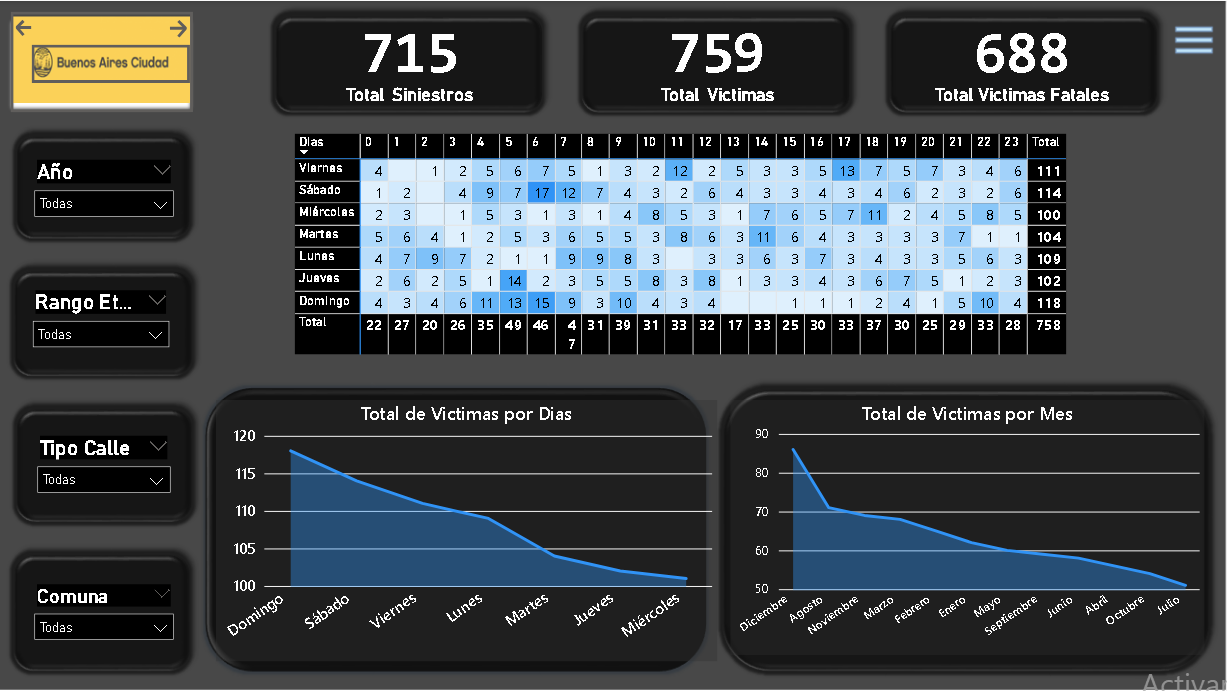

The page's visual inventory and layout, read from the dashboard file:
{"tool":"powerbi","page":{"name":"Temporal","canvas":[1280,720],"ordinal":5},"visuals":[{"type":"slicer","fields":{"Values":["Siniestros Viales.Año_Hechos"]},"box":[15,150,193.3,108.3],"z":0},{"type":"pivotTable","fields":{"Columns":["Siniestros Viales.Hora_Hechos"],"Values":["Medidas.Total_Victimas"],"Rows":["Siniestros Viales.Dias_Nombres_Hechos"]},"box":[305,133.3,916.7,250],"z":1000},{"type":"card","fields":{"Values":["Medidas.Total_Siniestros"]},"box":[291.4,11.4,274.3,104.3],"z":2000},{"type":"slicer","fields":{"Values":["Siniestros Viales.Edad"]},"box":[13.3,288.3,190,111.7],"z":3000},{"type":"areaChart","title":"Total de Victimas por Mes","fields":{"Category":["Siniestros Viales.Meses_Nombres_Hechos"],"Y":["Medidas.Total_Victimas"]},"box":[763.3,415,493.3,265],"z":4000},{"type":"areaChart","title":"Total de Victimas por Dias","fields":{"Y":["Medidas.Total_Victimas"],"Category":["Siniestros Viales.Dias_Nombres_Hechos"]},"box":[228.3,415,521.7,271.7],"z":5000},{"type":"card","fields":{"Values":["Medidas.Total_Victimas"]},"box":[612.9,11.4,274.3,104.3],"z":6000},{"type":"card","fields":{"Values":["Medidas.Total_Victimas_Fatales"]},"box":[930,11.4,274.3,104.3],"z":7000},{"type":"slicer","fields":{"Values":["Siniestros Viales.Participantes"]},"box":[18.3,588.3,185,111.7],"z":8000},{"type":"slicer","fields":{"Values":["Siniestros Viales.Victima"]},"box":[18.3,433.3,186.7,115],"z":9000}]}

Visuals, with their boxes in screenshot pixels (x1, y1, x2, y2), scaled from the page's 1280x720 canvas onto the 1227x691 screenshot:
slicer - Siniestros Viales.Año_Hechos: pyautogui.locateOnScreen(14, 144, 200, 248)
pivotTable - Siniestros Viales.Hora_Hechos x Medidas.Total_Victimas: pyautogui.locateOnScreen(292, 128, 1171, 368)
card - Medidas.Total_Siniestros: pyautogui.locateOnScreen(279, 11, 542, 111)
slicer - Siniestros Viales.Edad: pyautogui.locateOnScreen(13, 277, 195, 384)
"Total de Victimas por Mes" areaChart: pyautogui.locateOnScreen(732, 398, 1205, 653)
"Total de Victimas por Dias" areaChart: pyautogui.locateOnScreen(219, 398, 719, 659)
card - Medidas.Total_Victimas: pyautogui.locateOnScreen(588, 11, 850, 111)
card - Medidas.Total_Victimas_Fatales: pyautogui.locateOnScreen(891, 11, 1154, 111)
slicer - Siniestros Viales.Participantes: pyautogui.locateOnScreen(18, 565, 195, 672)
slicer - Siniestros Viales.Victima: pyautogui.locateOnScreen(18, 416, 197, 526)
